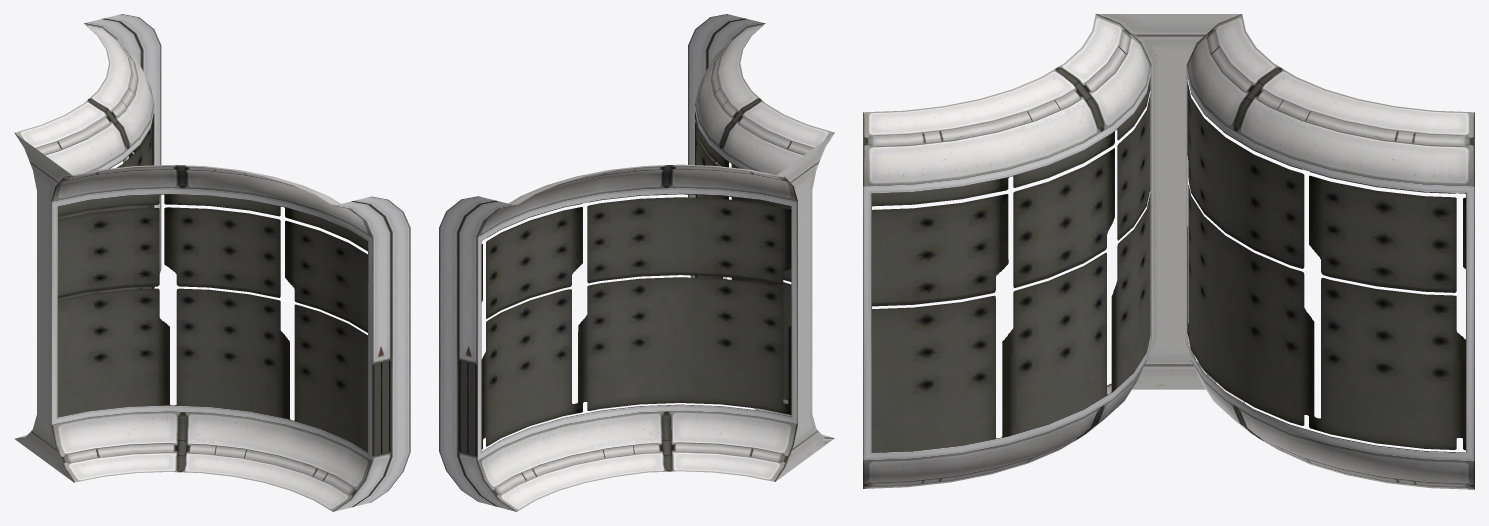
The model's file is STA20_officecurve01.FBX.
3 views of the same model, side by side, from view 1: azimuth 30°, elevation 25°; view 2: azimuth 150°, elevation 25°; view 3: azimuth 270°, elevation 25° (orthographic). The views are drawn at different scales.
Parts seen in each view (by area): view 1: STA20_officecurve01; view 2: STA20_officecurve01; view 3: STA20_officecurve01.
Boxes of the visible parts, x1=… form: STA20_officecurve01: x1=14, y1=14, x2=410, y2=511; STA20_officecurve01: x1=439, y1=14, x2=834, y2=511; STA20_officecurve01: x1=863, y1=14, x2=1474, y2=489.
Size of the model in its own units: 3.66 by 4.43 by 6.53.
